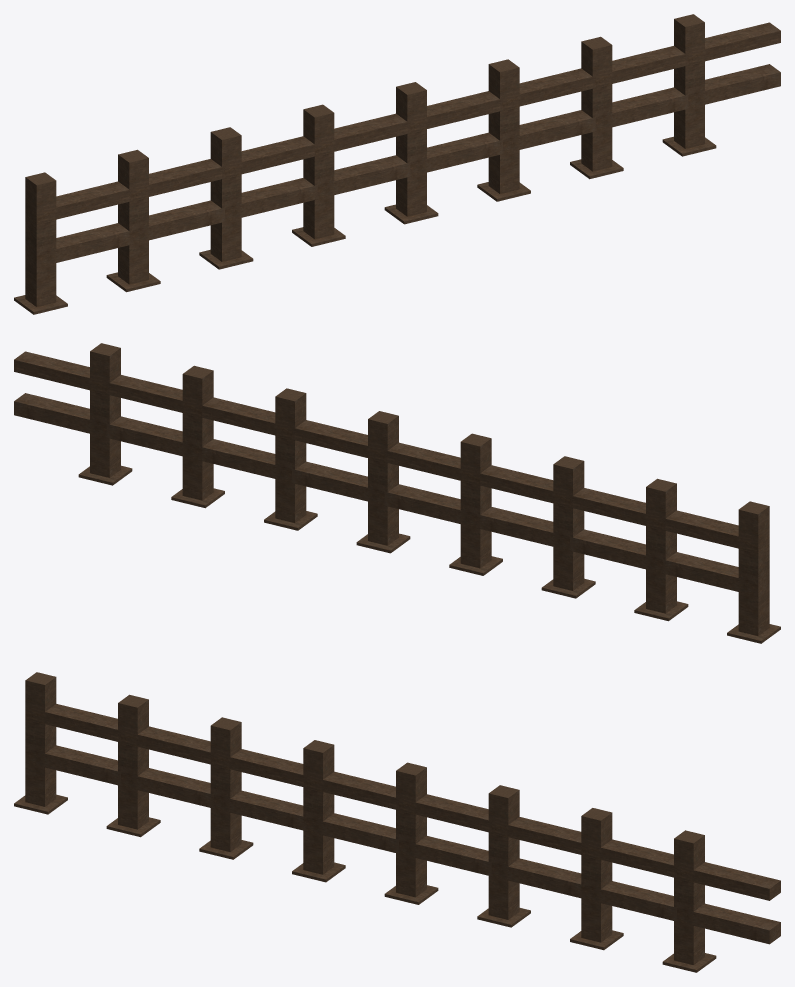
The model's file is fence.glb.
3 renders of one model, top to bottom at view 1: azimuth 30°, elevation 25°; view 2: azimuth 150°, elevation 25°; view 3: azimuth 330°, elevation 25°, orthographic.
Parts seen in each view (by area): view 1: fence; view 2: fence; view 3: fence.
Part boxes in pixels (bbox=[...]): fence: bbox=[14, 14, 780, 314]; fence: bbox=[14, 343, 780, 643]; fence: bbox=[14, 672, 780, 972].
Bounding box in the file's own units: 1 × 0.1585 × 0.0454.
1 material, 1 textured.
